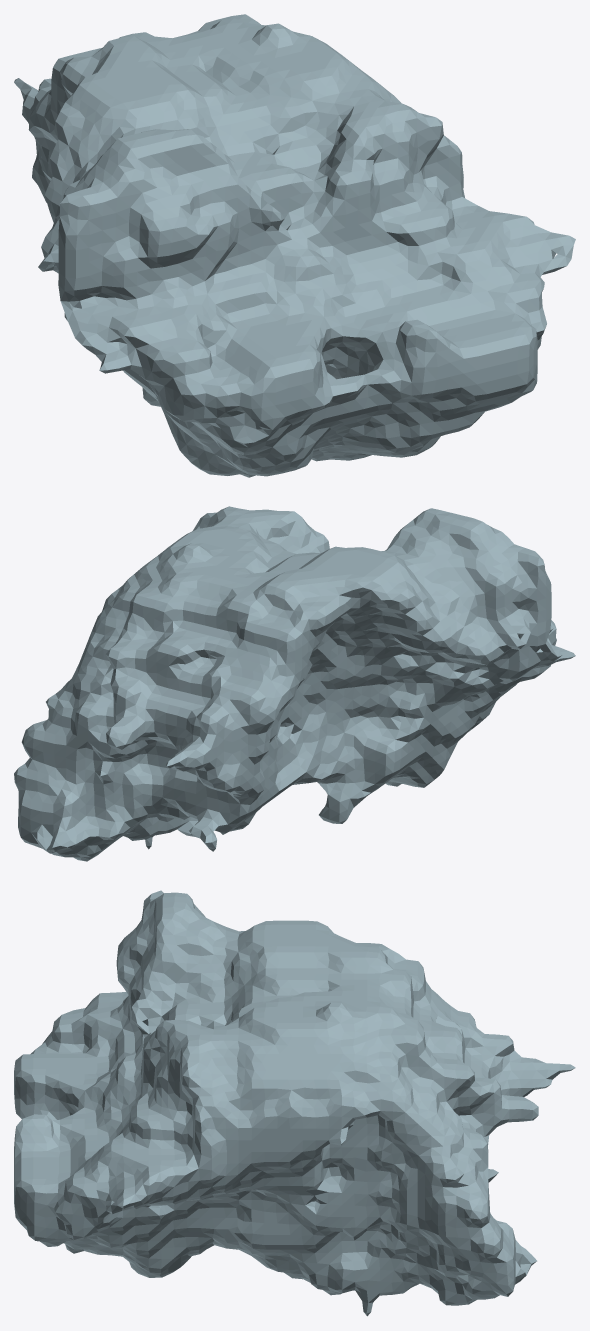
The model's file is aseg_016_Brain-Stem.glb.
3 views of the same model, one above another, from view 1: azimuth 30°, elevation 25°; view 2: azimuth 150°, elevation 25°; view 3: azimuth 270°, elevation 25° (orthographic). The views are drawn at different scales.
Bounding box in the file's own units: 36.67 × 26.75 × 43.75.
